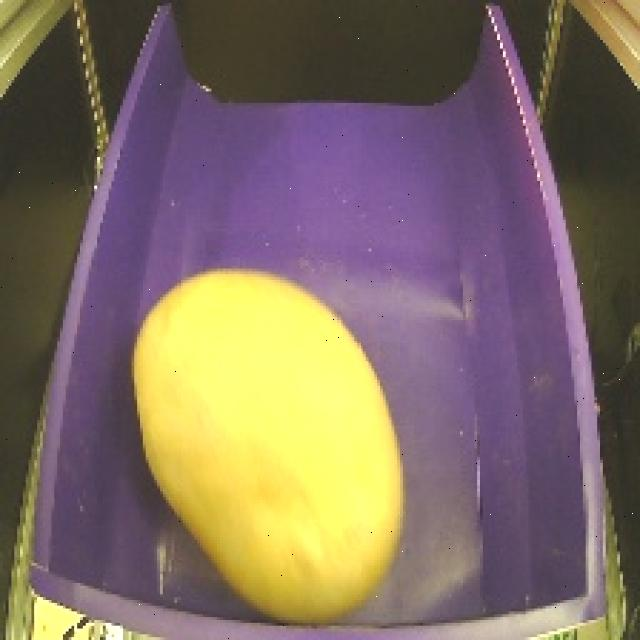full_potato: (123, 254, 412, 632)
